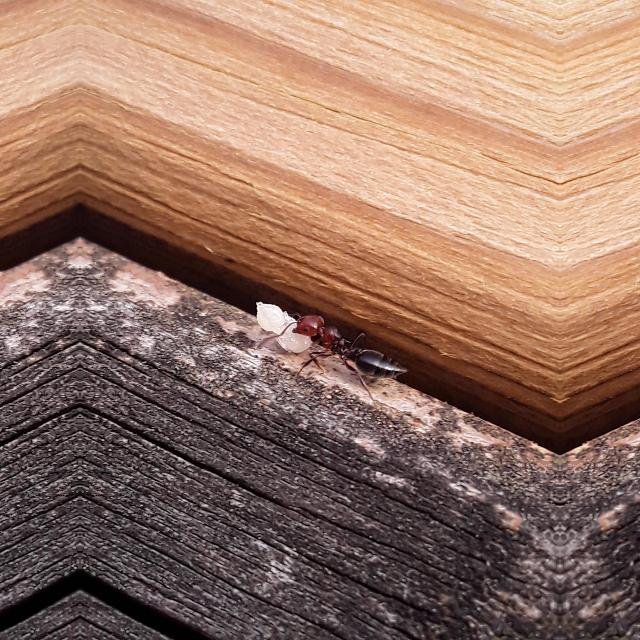Crematogaster: (293, 304, 407, 382)
